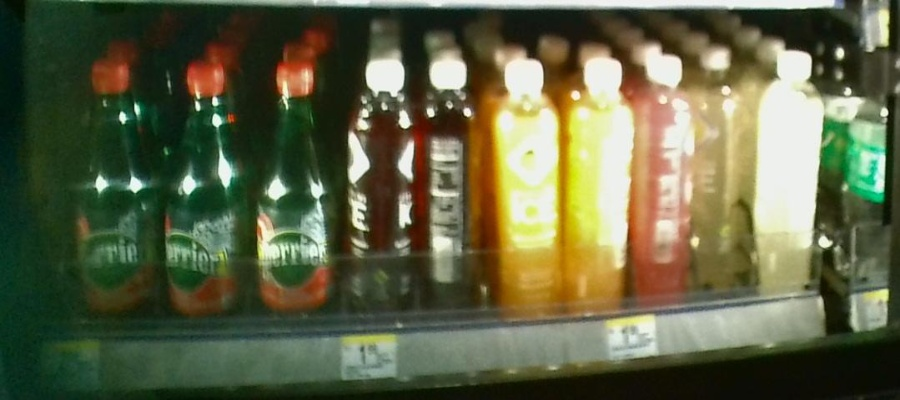bottle: (167, 52, 247, 324), (71, 58, 152, 319), (343, 52, 421, 319), (490, 52, 561, 314), (262, 53, 332, 318), (569, 60, 636, 316), (758, 50, 823, 290), (425, 60, 483, 317), (642, 53, 698, 314), (700, 43, 747, 295)
